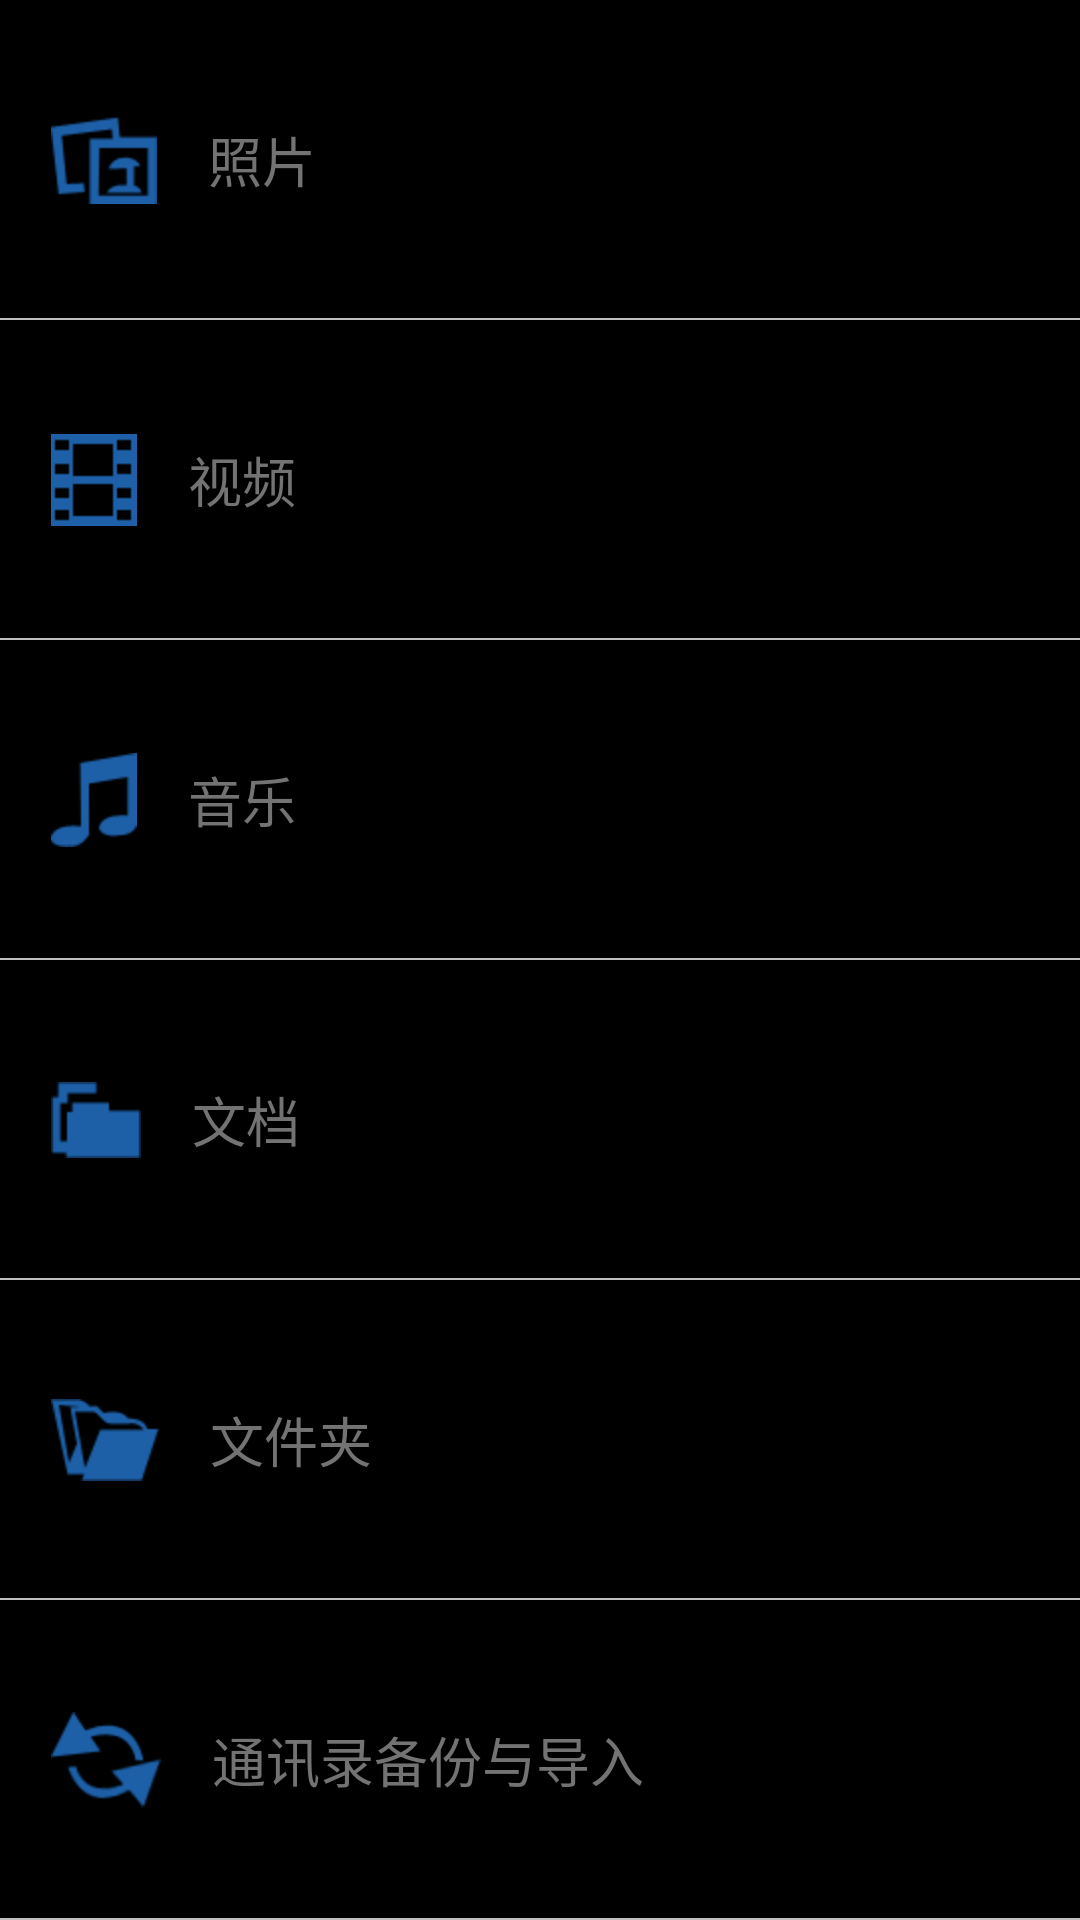

Screen size 1080px x 1920px. Icon name, then its box in pixels as box=[x1, y1, x2, y2]:
backup: box=[51, 1712, 161, 1807]
doc: box=[51, 1082, 141, 1158]
folder: box=[51, 1399, 159, 1481]
music: box=[51, 753, 137, 847]
photo: box=[51, 117, 157, 204]
video: box=[51, 434, 137, 526]
